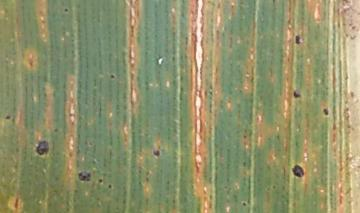tarspot: (34, 139, 51, 157), (290, 162, 305, 179), (76, 170, 93, 183), (292, 90, 302, 99), (293, 34, 301, 45), (322, 107, 330, 117), (152, 148, 160, 158), (4, 114, 12, 122), (97, 177, 104, 185), (62, 6, 70, 13), (109, 73, 116, 80), (53, 126, 60, 133), (241, 200, 248, 207), (106, 183, 112, 191)
